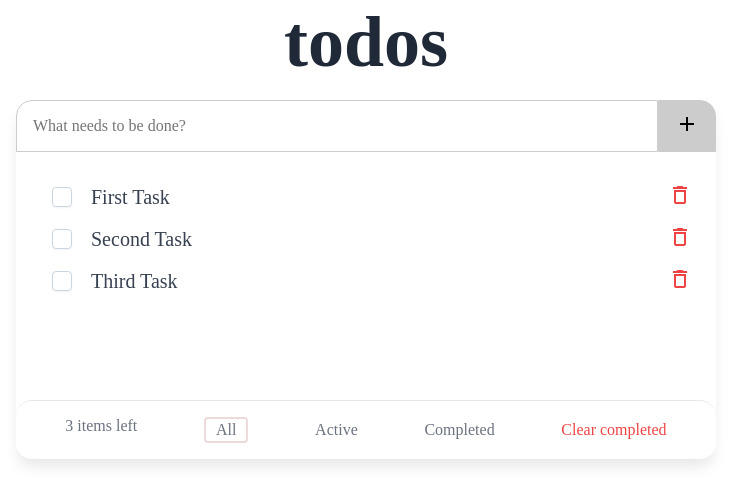
TodoDisplay › should render delete todo
expect the text "3 items left" is shown: met, box [65,417,137,443]
Click the button with test id "delete-2".
click(680, 239)  # box [668,225,692,253]
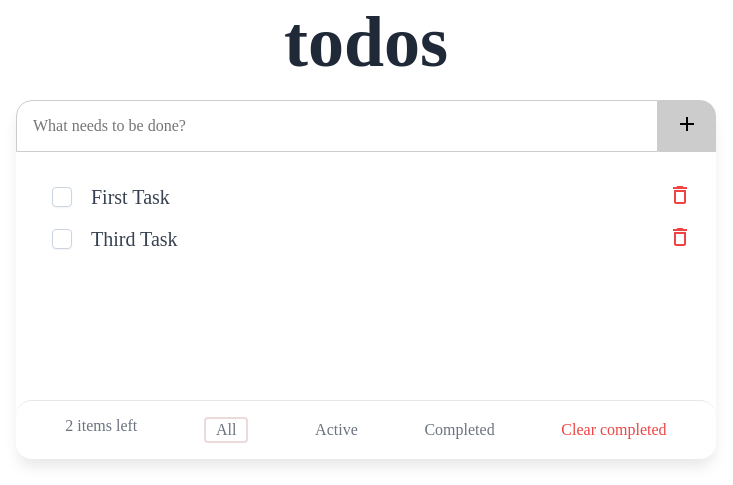
expect the text "First Task" is shown: met, box [91,186,170,208]
expect the text "2 items left" is shown: met, box [65,417,137,443]
